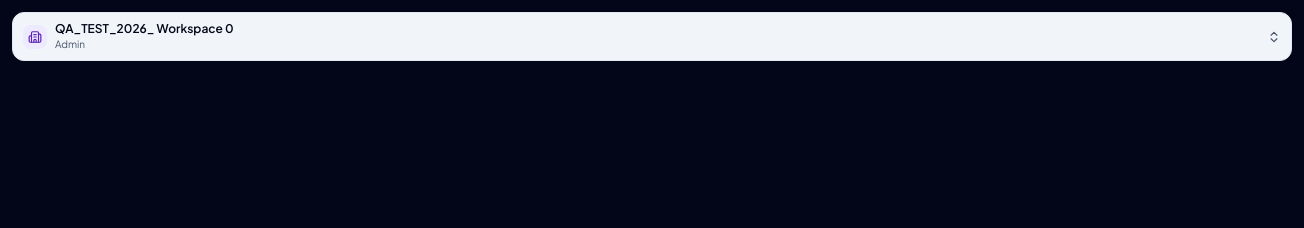
Test: WorkspaceSwitcher › shows the current workspace and lists the others without search for a few workspaces
The width and height of the screenshot is (1304, 228).
Click the button with aria-label "Workspace: QA_TEST_2026_ Workspace 0": (144, 28) [12,12,1292,61]
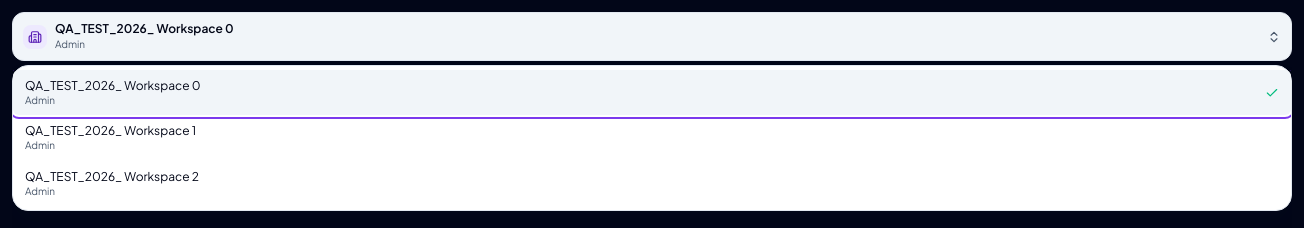
Expected: the number of options is 3, [13,70,1291,115]; [25,123,196,151]; [25,169,199,197]
Expected: the option "QA_TEST_2026_ Workspace 0 Admin" is shown, [13,70,1291,115]
